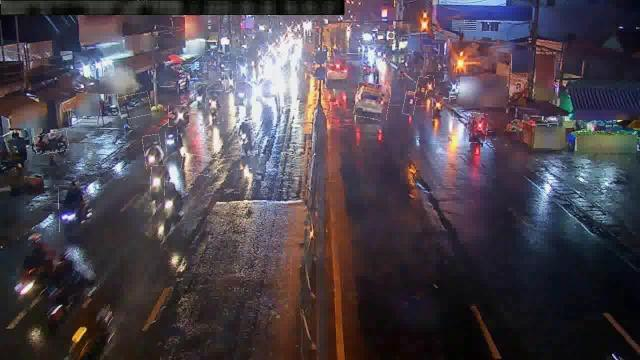Bike: (59, 186, 82, 232), (162, 182, 180, 234), (182, 154, 218, 176), (118, 94, 150, 118), (35, 132, 69, 154), (143, 134, 163, 170), (237, 121, 257, 155), (467, 113, 488, 143), (206, 90, 224, 122), (169, 106, 191, 132), (150, 166, 166, 196), (432, 99, 453, 121), (166, 126, 178, 154), (194, 83, 206, 109), (235, 82, 248, 106), (236, 56, 248, 80), (404, 92, 416, 116), (416, 77, 428, 99), (225, 70, 233, 90), (426, 76, 434, 96)
Car: (354, 82, 390, 120), (326, 60, 352, 86)
